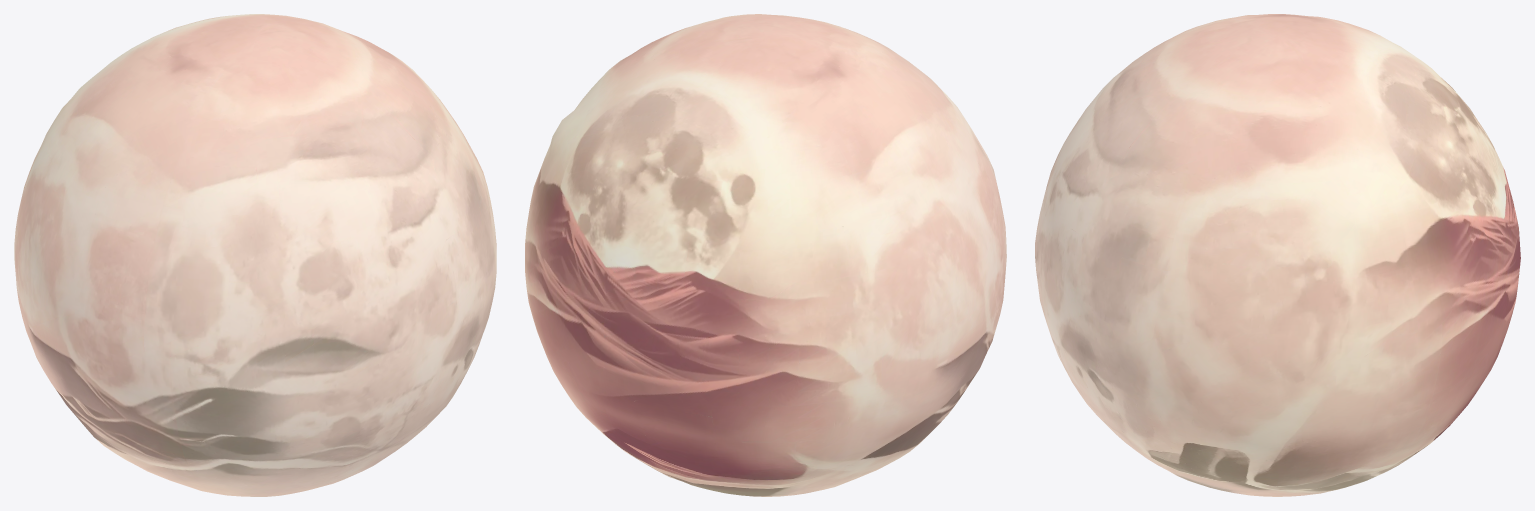
Rendered from pink-moon.glb.
3 views of the same model, side by side, from view 1: azimuth 30°, elevation 25°; view 2: azimuth 150°, elevation 25°; view 3: azimuth 270°, elevation 25° (orthographic).
Bounding box in the file's own units: 2 × 2 × 2.
1 material, 1 textured.
